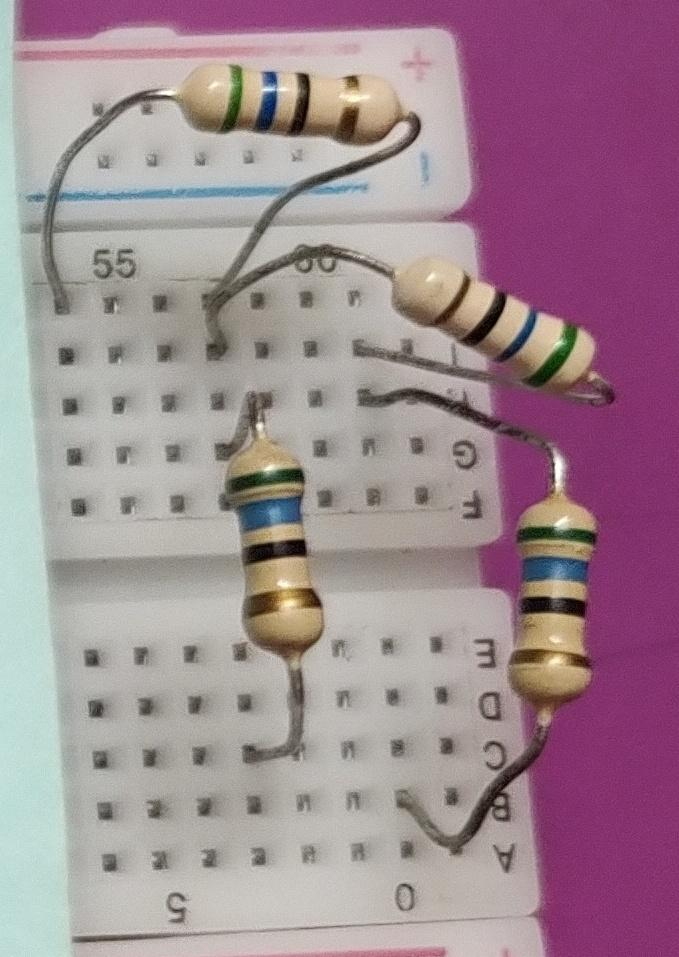resistor: (379, 235, 603, 399), (191, 427, 330, 661), (495, 491, 628, 727), (167, 49, 413, 167)
